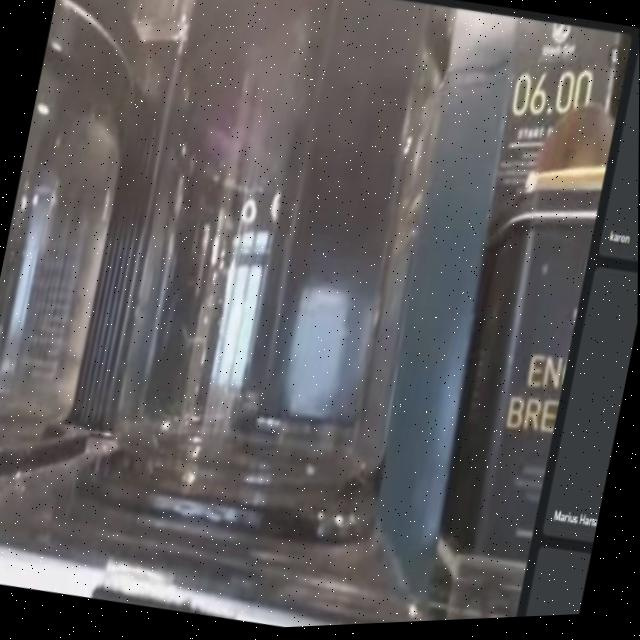nocoffee: (80, 0, 490, 576), (0, 0, 175, 493)
